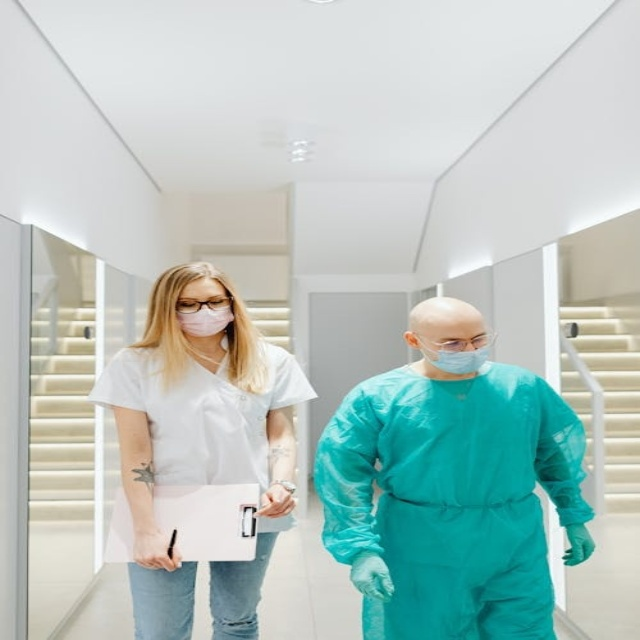Gafas: (414, 329, 497, 352), (174, 296, 234, 314)
Guantes: (350, 553, 394, 603), (562, 524, 595, 567)
Mascara: (418, 335, 492, 374), (176, 304, 236, 337)
Sin_guantes: (129, 525, 187, 576), (256, 484, 297, 518)
